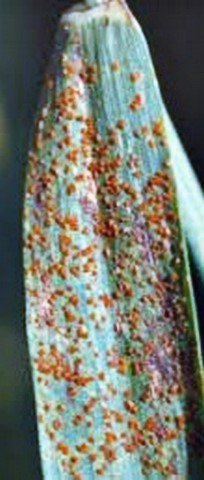Leaf Rust: (22, 65, 185, 480)
